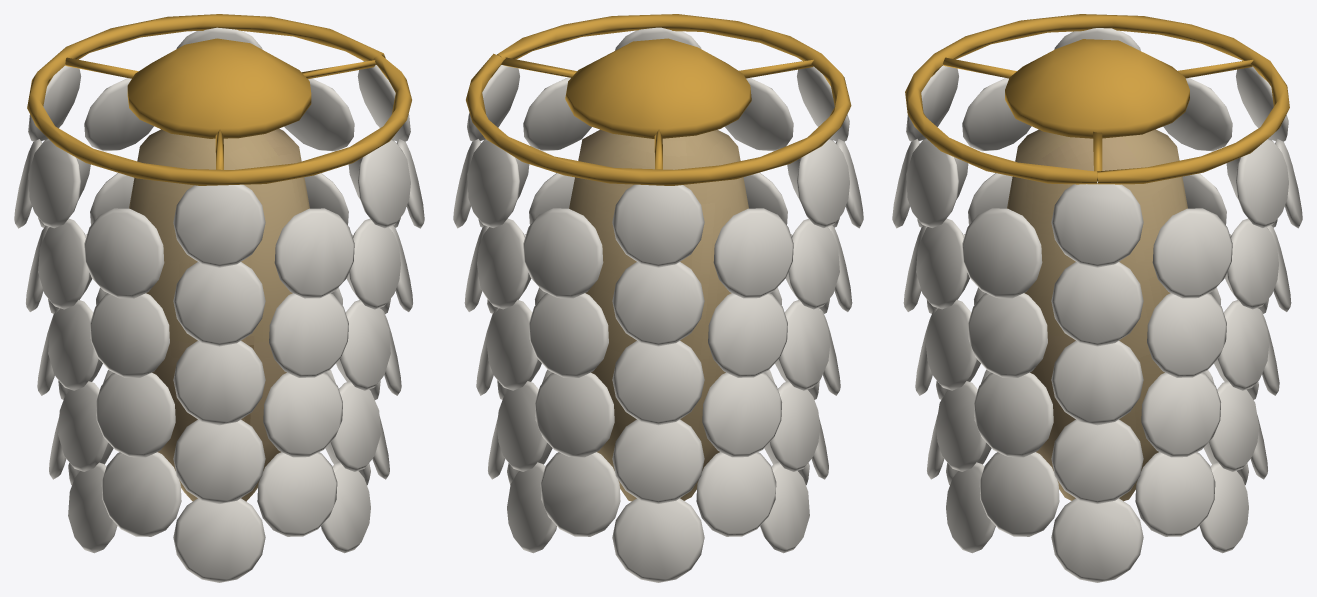
Rendered from lantern_pearl.glb.
3 renders of one model, left to right at view 1: azimuth 30°, elevation 25°; view 2: azimuth 150°, elevation 25°; view 3: azimuth 270°, elevation 25°, orthographic.
Visible parts, largest first — view 1: prop_lantern_pearl_pearl, prop_lantern_pearl_brass, prop_lantern_pearl_paper; view 2: prop_lantern_pearl_pearl, prop_lantern_pearl_brass, prop_lantern_pearl_paper; view 3: prop_lantern_pearl_pearl, prop_lantern_pearl_brass, prop_lantern_pearl_paper.
Boxes of the visible parts, bbox=[...] form: prop_lantern_pearl_pearl: bbox=[14, 27, 424, 582]; prop_lantern_pearl_brass: bbox=[27, 14, 411, 185]; prop_lantern_pearl_paper: bbox=[129, 128, 309, 501]; prop_lantern_pearl_pearl: bbox=[453, 27, 863, 582]; prop_lantern_pearl_brass: bbox=[466, 14, 851, 185]; prop_lantern_pearl_paper: bbox=[569, 129, 748, 501]; prop_lantern_pearl_pearl: bbox=[892, 28, 1302, 582]; prop_lantern_pearl_brass: bbox=[905, 14, 1289, 184]; prop_lantern_pearl_paper: bbox=[1007, 129, 1187, 501].
Bounding box in the file's own units: 0.1423 × 0.197 × 0.1423.
3 materials, 1 textured.
